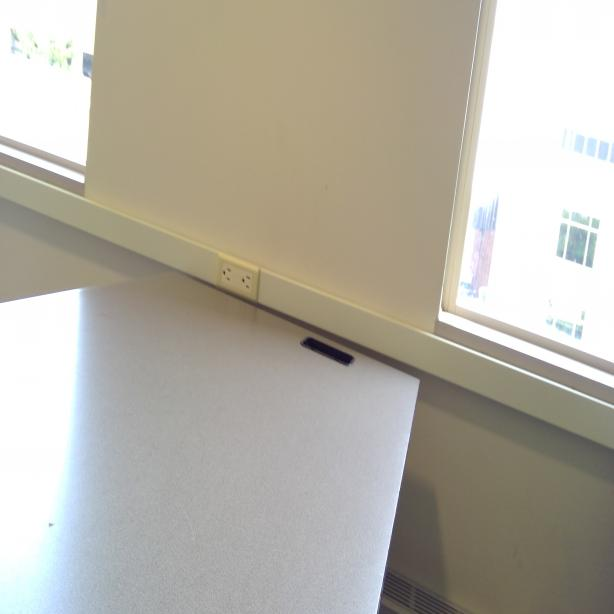typeb: (219, 262, 233, 286), (238, 270, 252, 294)
